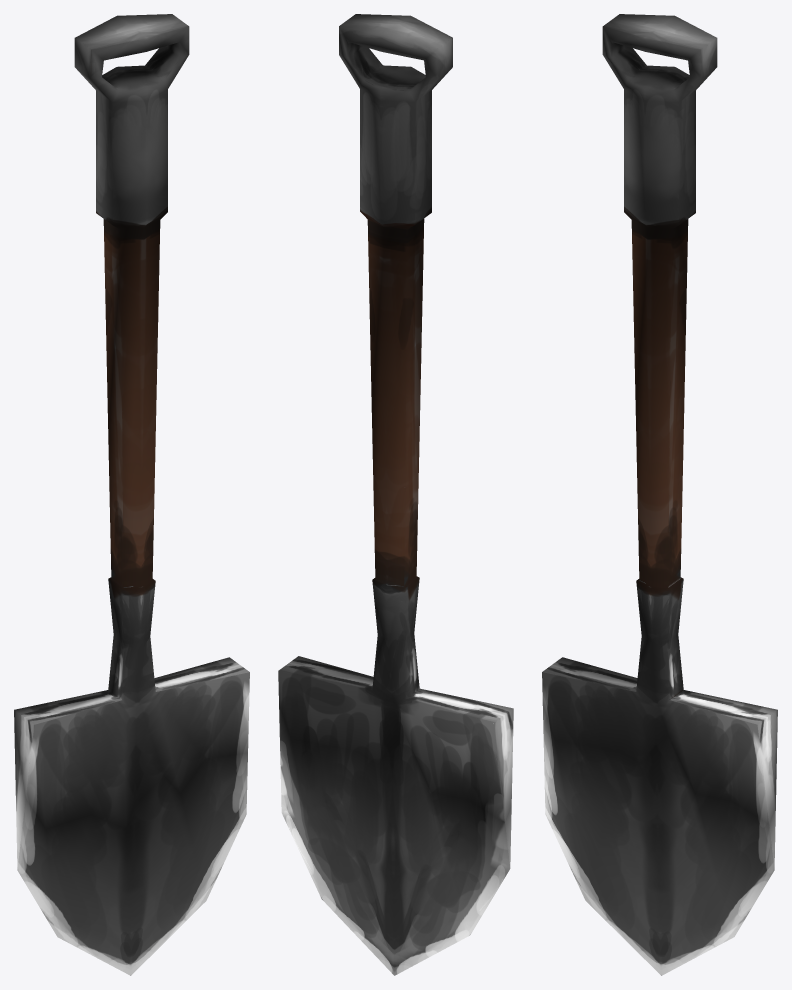
The model's file is Bshovel.fbx.
3 views of the same model, side by side, from view 1: azimuth 30°, elevation 25°; view 2: azimuth 150°, elevation 25°; view 3: azimuth 330°, elevation 25° (orthographic).
Parts seen in each view (by area): view 1: Cube; view 2: Cube; view 3: Cube.
Part boxes in pixels (x1,y1,x2,y2): Cube: (14,14,249,975); Cube: (278,14,513,975); Cube: (542,14,777,975).
Size of the model in its own units: 158 by 624 by 36.4.
